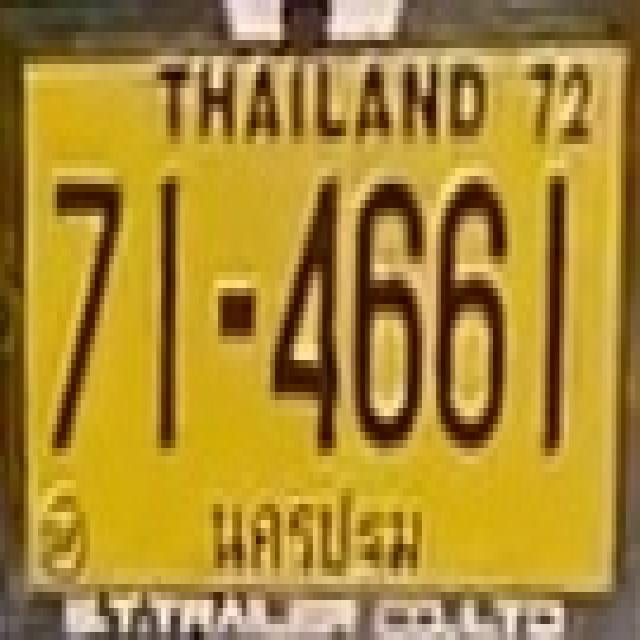1: (154, 172, 178, 444), (541, 168, 564, 448)
4: (266, 168, 342, 451)
6: (434, 175, 505, 447), (351, 176, 422, 440)
7: (48, 172, 119, 444)
NPT: (193, 477, 430, 598)
